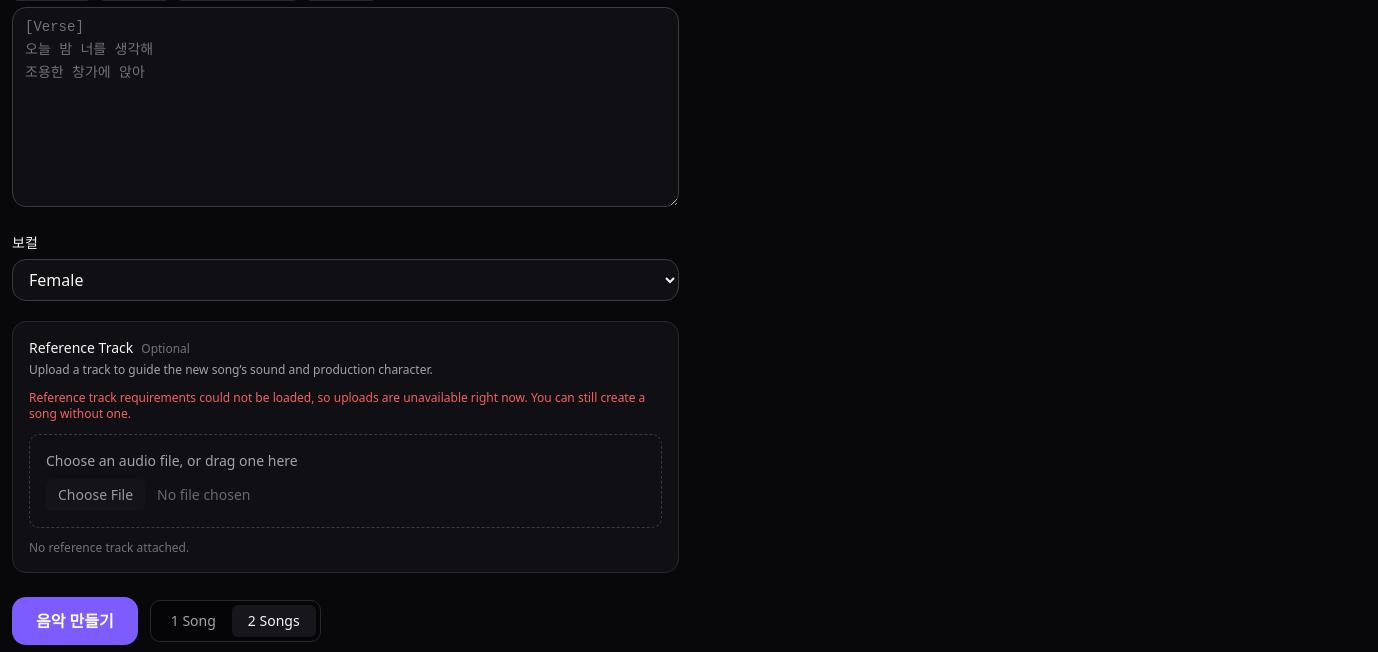
form validation › blocks submission and reports missing fields
The image size is (1378, 652).
(page scrolled)
Step 1. Click the button "음악 만들기" → click(75, 621), box [12,597,138,645]
(page scrolled)
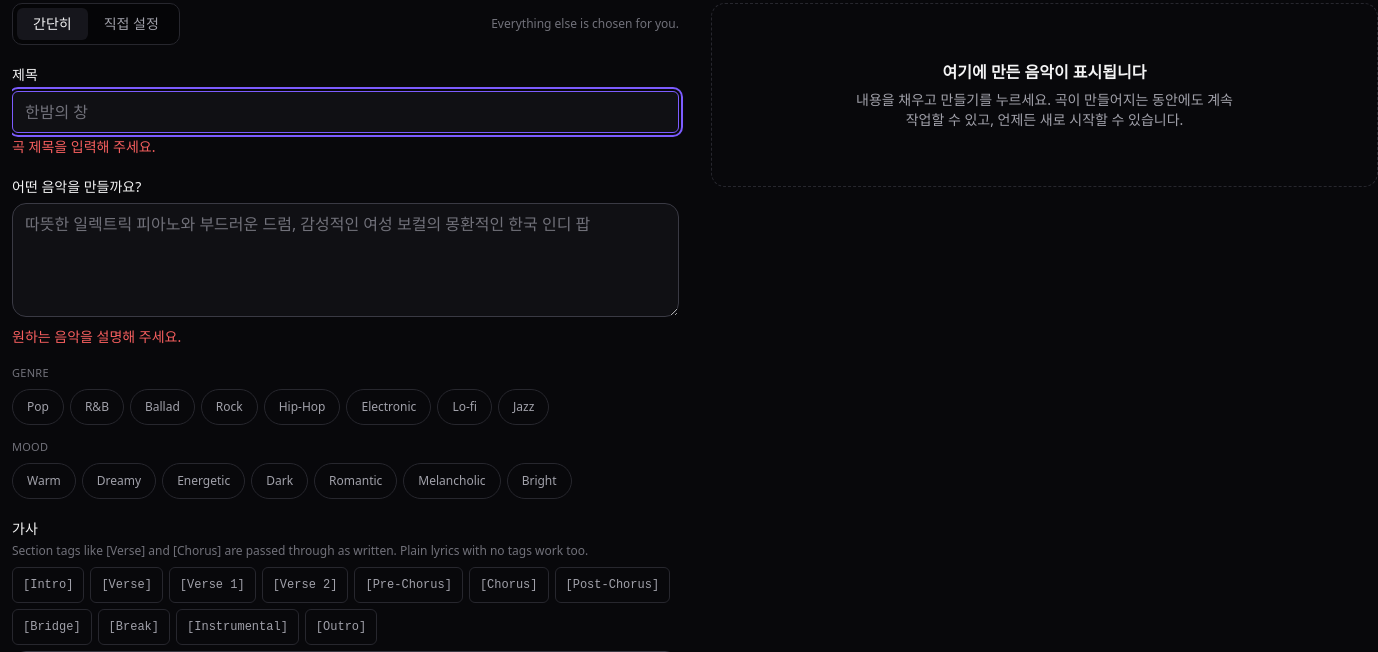
Check: the text "곡 제목을 입력해 주세요." is shown, box [12,137,156,156]
Check: the text "원하는 음악을 설명해 주세요." is shown, box [12,327,181,346]
